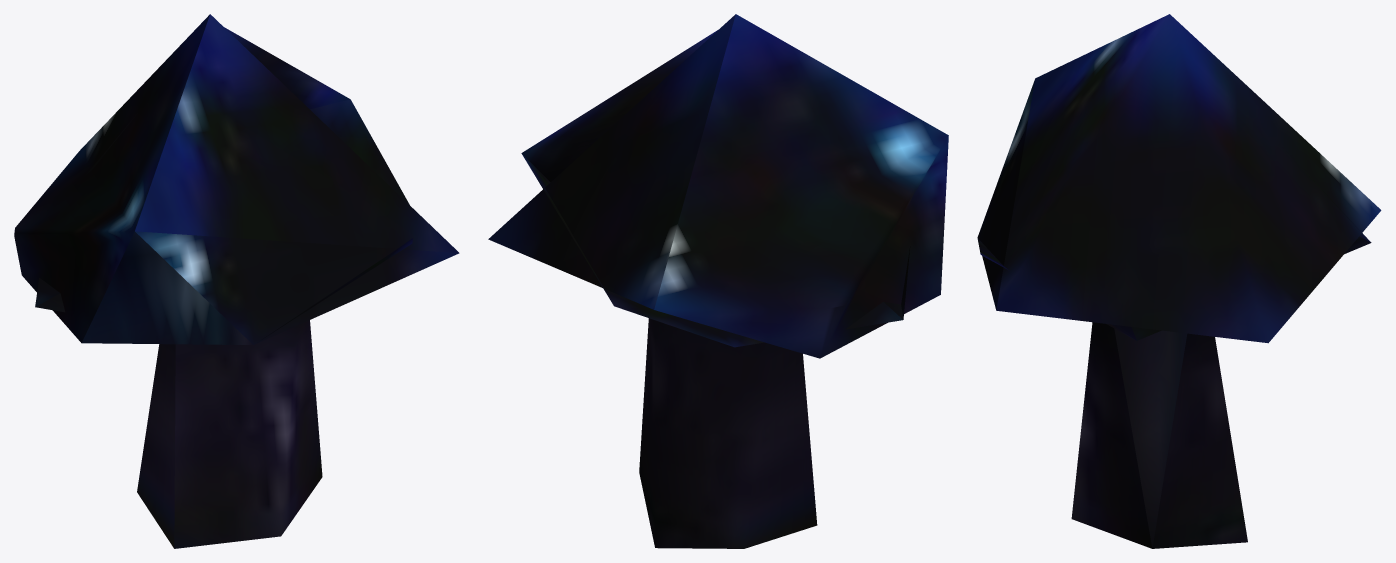
The model's file is b_mycelium_deco_champignon_v2_lod2.glb.
3 renders of one model, left to right at view 1: azimuth 30°, elevation 25°; view 2: azimuth 150°, elevation 25°; view 3: azimuth 270°, elevation 25°, orthographic.
Parts seen in each view (by area): view 1: geometry_0; view 2: geometry_0; view 3: geometry_0.
Part boxes in pixels (bbox=[...]): geometry_0: bbox=[14, 14, 459, 548]; geometry_0: bbox=[488, 14, 948, 548]; geometry_0: bbox=[977, 14, 1381, 548].
Bounding box in the file's own units: 0.7631 × 1.01 × 0.7298.
1 material, 1 textured.
